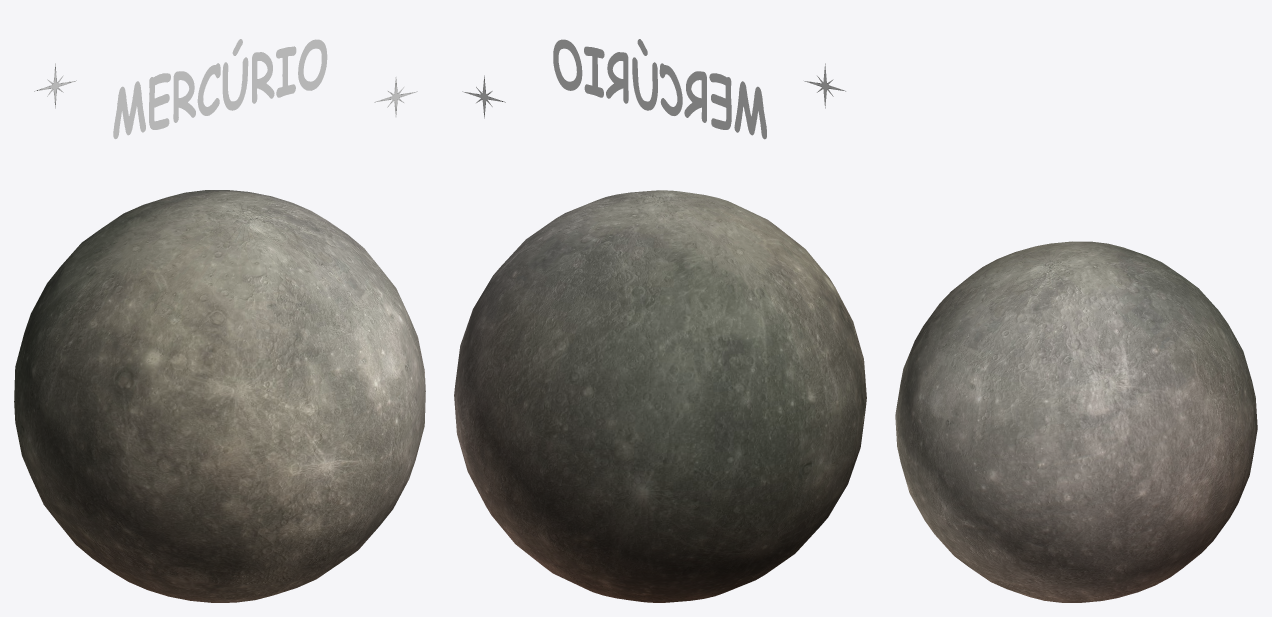
File: mercurio.glb
The picture shows the model from 3 angles, left to right: view 1: azimuth 30°, elevation 25°; view 2: azimuth 150°, elevation 25°; view 3: azimuth 270°, elevation 25°; orthographic projection. The views are drawn at different scales.
Parts seen in each view (by area): view 1: Terra.004, Letra; view 2: Terra.004, Letra; view 3: Terra.004.
Boxes of the visible parts, <box> form: Terra.004: <box>14,190,425,602</box>; Letra: <box>113,39,327,138</box>; Terra.004: <box>454,190,866,602</box>; Letra: <box>553,39,766,139</box>; Terra.004: <box>895,241,1257,602</box>.
Bounding box in the file's own units: 1.4 × 1.95 × 1.3.
2 materials, 2 textured.
